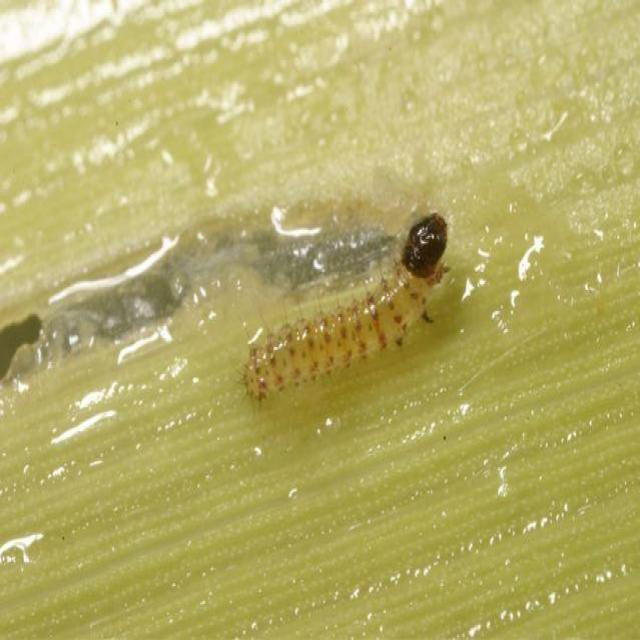cornborer-Larva-: (218, 205, 466, 423)
